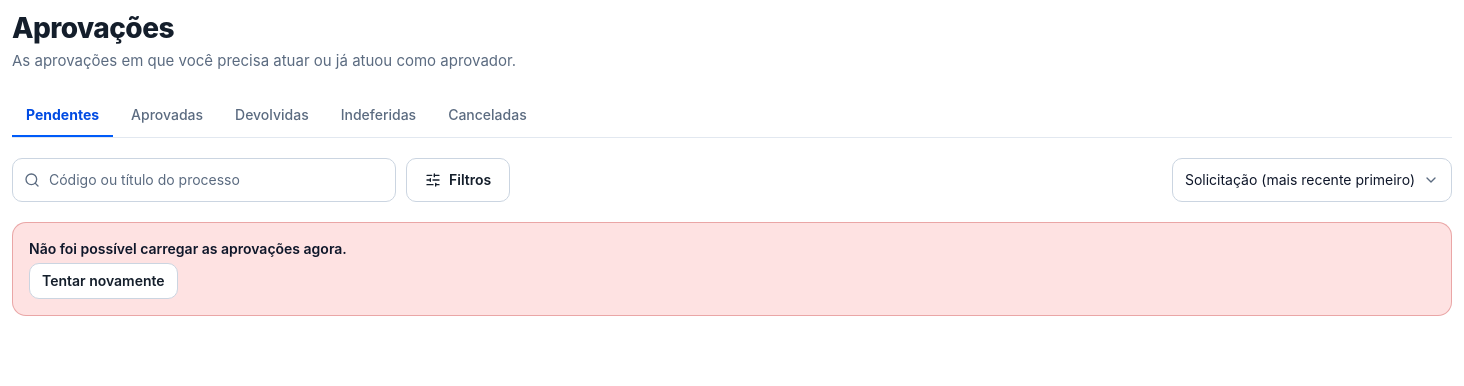
Scenario: SCR-014 — Aprovações (US-057) › banco indisponível: mensagem e "Tentar novamente" reconsulta
Expected: the text "Não foi possível carregar as aprovações agora." is shown, [29,240,347,257]
Click the button "Tentar novamente": (103, 281) [29,263,178,299]
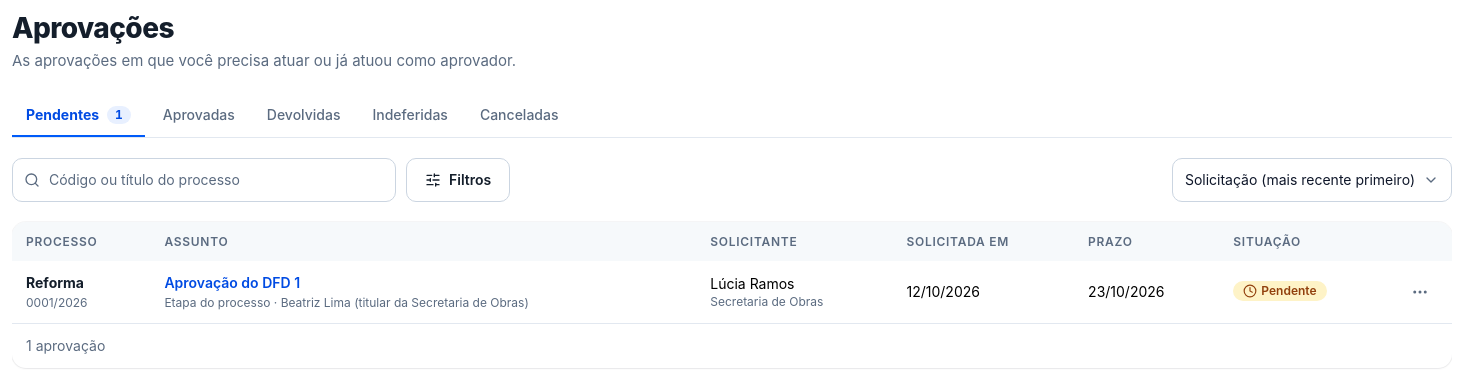
Result: the link with aria-label "Abrir Aprovação do DFD 1" is shown at [164,273,300,293]
